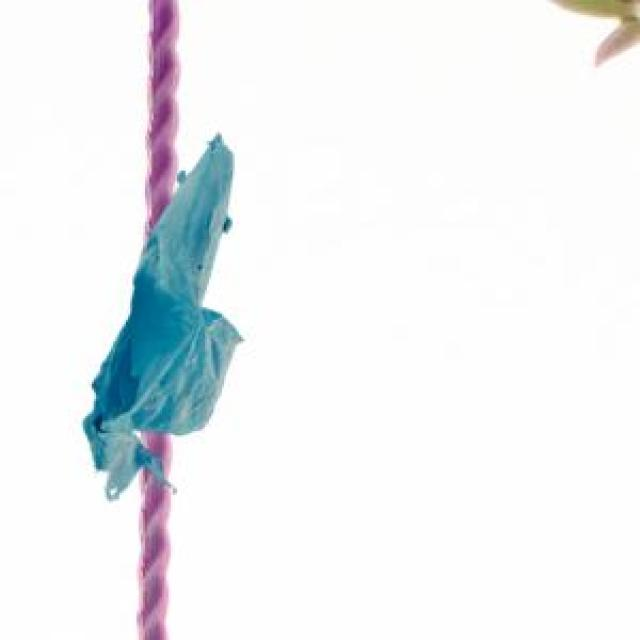plastic: (60, 73, 298, 544)
